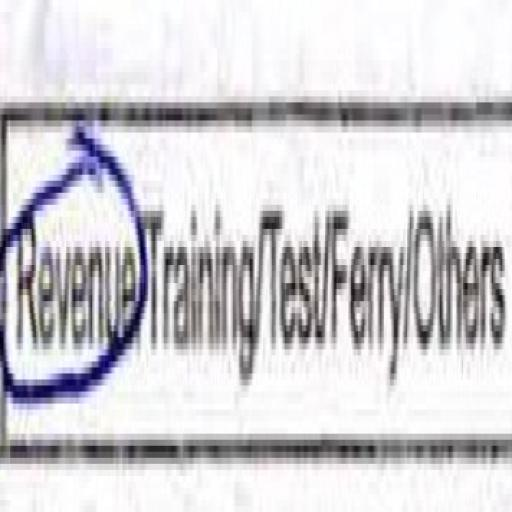check: (1, 8, 145, 492)
